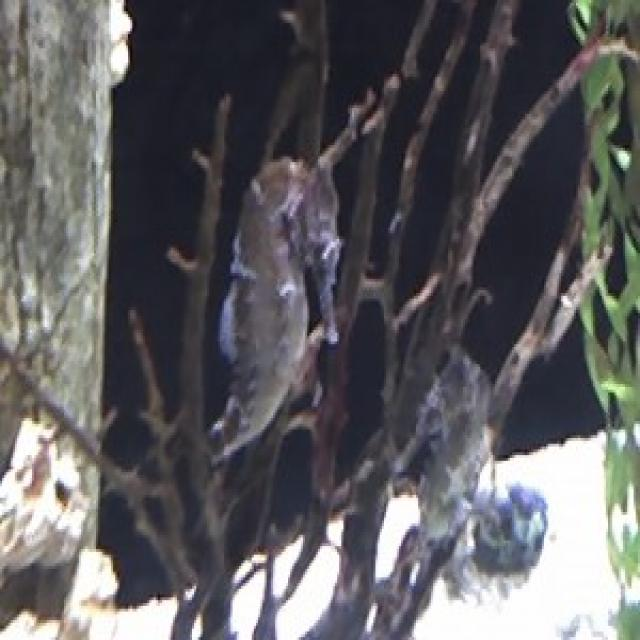Seahorse: (224, 135, 370, 455)
